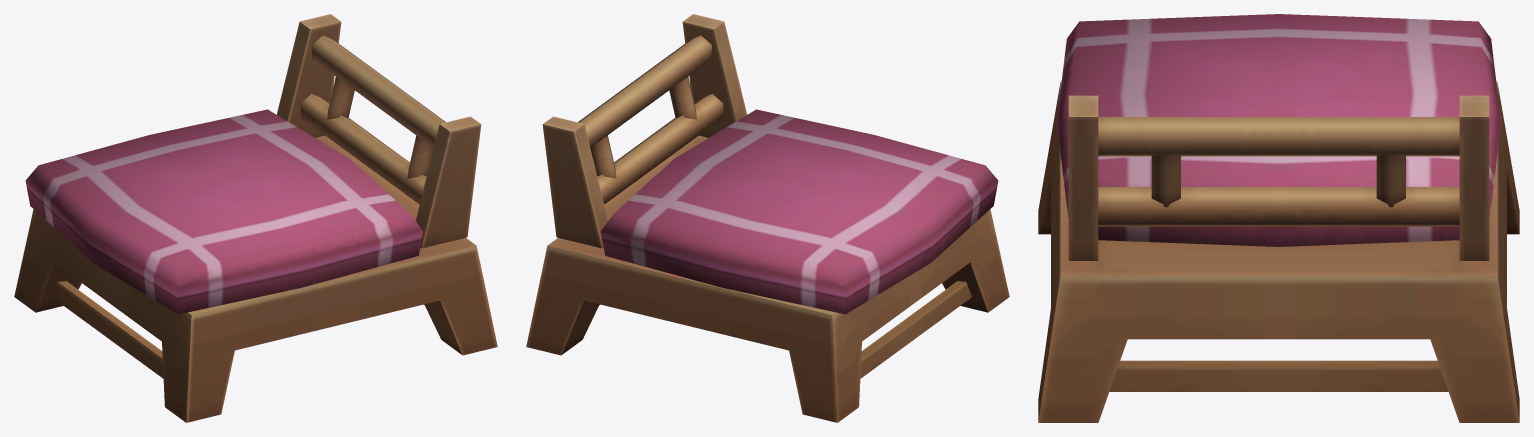
File: my_hyakkiyako_01_chair_02.glb
3 renders of one model, left to right at view 1: azimuth 30°, elevation 25°; view 2: azimuth 150°, elevation 25°; view 3: azimuth 270°, elevation 25°, orthographic. The views are drawn at different scales.
Visible parts, largest first — view 1: my_hyakkiyako_01_chair_02; view 2: my_hyakkiyako_01_chair_02; view 3: my_hyakkiyako_01_chair_02.
Boxes of the visible parts, box(x1,y1,x2,y2) form: my_hyakkiyako_01_chair_02: box(14, 14, 497, 422); my_hyakkiyako_01_chair_02: box(526, 14, 1009, 422); my_hyakkiyako_01_chair_02: box(1038, 14, 1519, 422).
Bounding box in the file's own units: 0.00409 × 0.00262 × 0.00379.
1 material, 1 textured.
